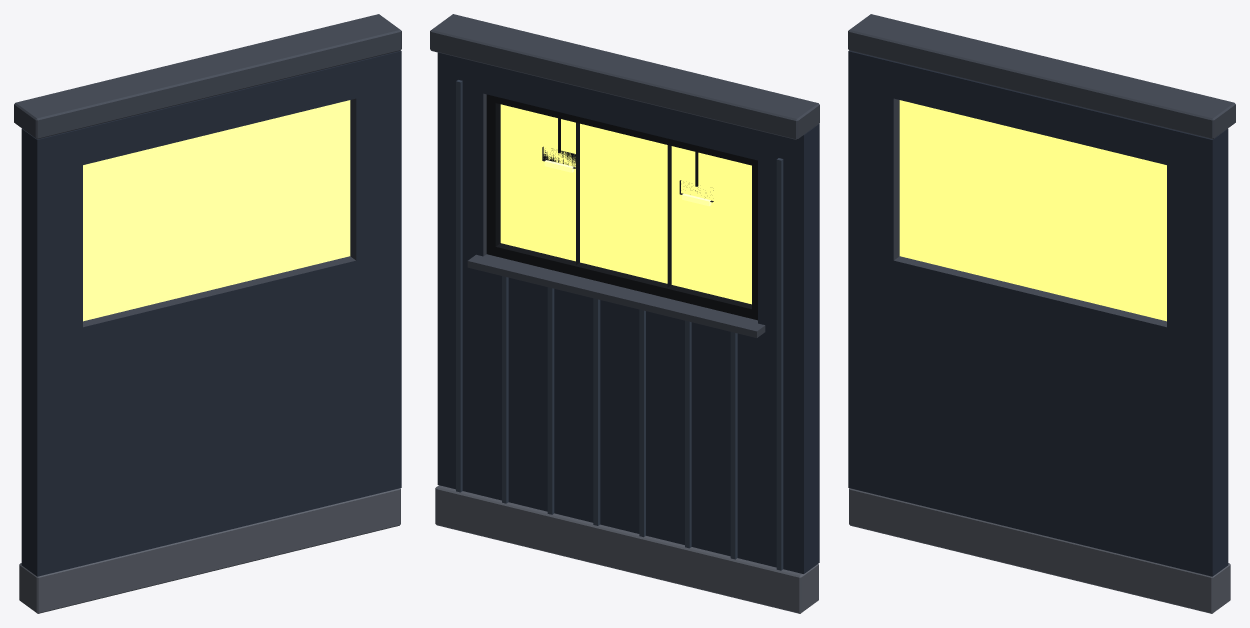
File: hall_wall.glb
The picture shows the model from 3 angles, left to right: view 1: azimuth 30°, elevation 25°; view 2: azimuth 150°, elevation 25°; view 3: azimuth 330°, elevation 25°; orthographic projection.
Visible parts, largest first — view 1: wall; view 2: wall; view 3: wall.
Part boxes in pixels (x1,y1,x2,y2): wall: [14, 14, 401, 613]; wall: [430, 14, 819, 613]; wall: [848, 14, 1235, 613].
Bounding box in the file's own units: 4.02 × 5.2 × 0.46.
